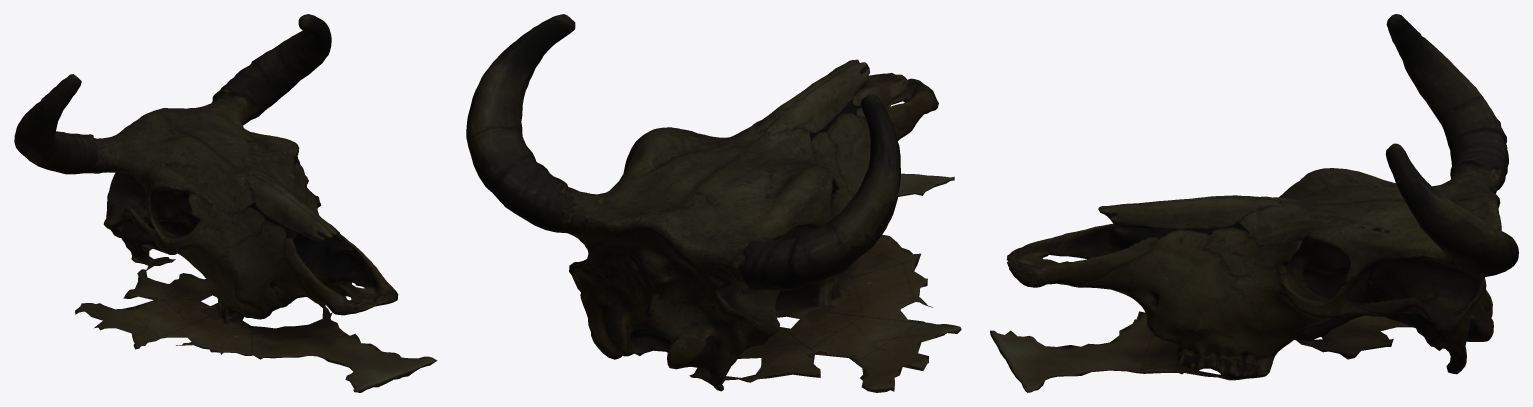
File: model_obj-Angel.glb
The picture shows the model from 3 angles, left to right: view 1: azimuth 30°, elevation 25°; view 2: azimuth 150°, elevation 25°; view 3: azimuth 270°, elevation 25°; orthographic projection. The views are drawn at different scales.
Visible parts, largest first — view 1: Node1; view 2: Node1; view 3: Node1.
Boxes of the visible parts, <box> form: Node1: <box>14,14,437,392</box>; Node1: <box>466,14,961,392</box>; Node1: <box>990,14,1518,392</box>.
Bounding box in the file's own units: 0.3934 × 0.2833 × 0.4963.
Materials: 1 (1 with a texture image).
